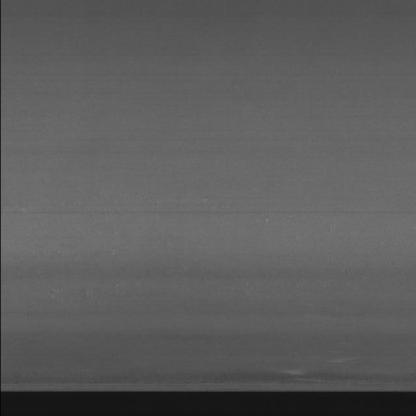silk_spot: (274, 355, 396, 389)
